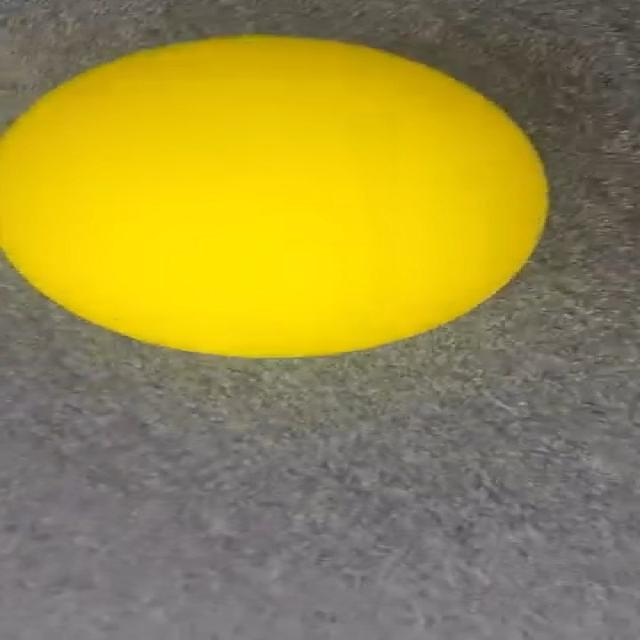Fuels: (0, 35, 546, 357)
